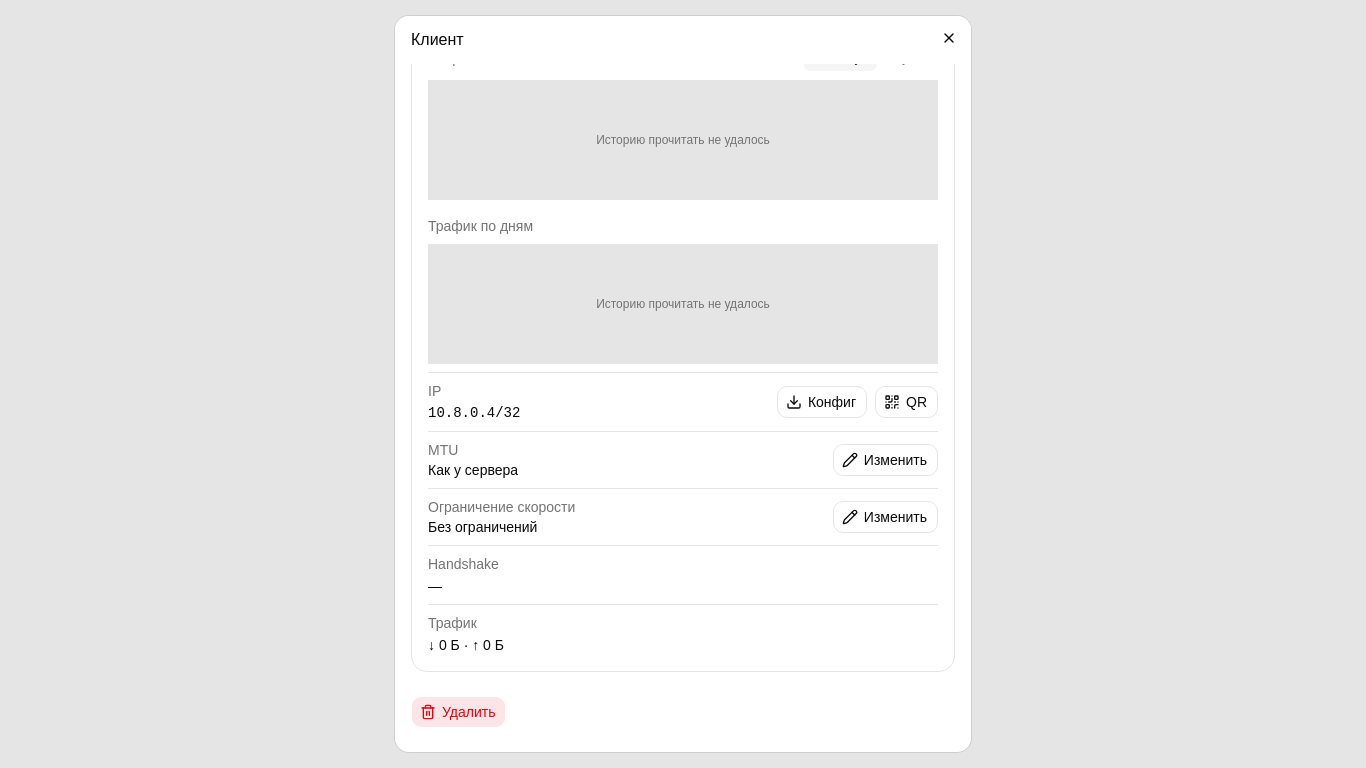
ограничение скорости в карточке клиента › окно правки говорит, зачем ограничение нужно
(page scrolled)
Click the button with aria-label "Изменить ограничение скорости": (885, 517) [833,501,938,533]
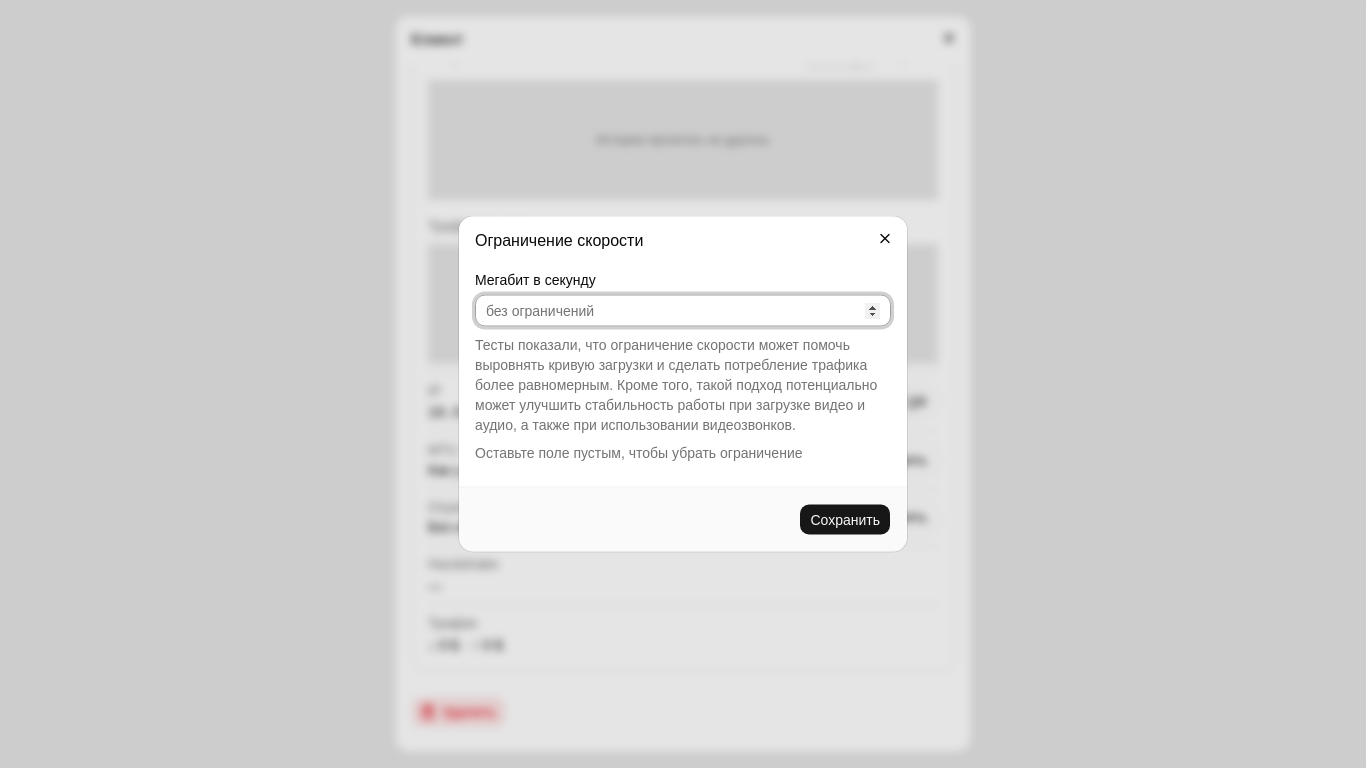
Now the text "Тесты показали, что ограничение скорости может помочь выровнять кривую загрузки и сделать потребление трафика более равн" is shown, box [475,336,877,432]
Now the text "Оставьте поле пустым, чтобы убрать ограничение" is shown, box [475,444,802,460]
